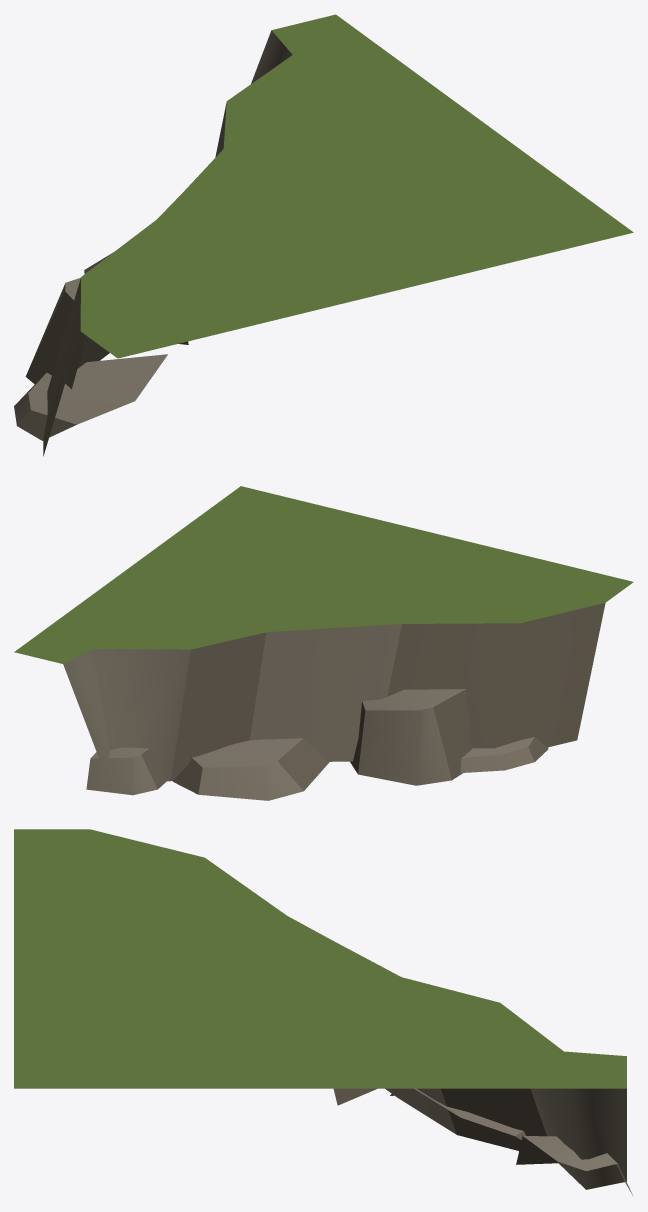
File: SF_Env_CliffEdge_Corner_05.fbx
The picture shows the model from 3 angles, top to bottom: view 1: azimuth 30°, elevation 25°; view 2: azimuth 150°, elevation 25°; view 3: azimuth 270°, elevation 25°; orthographic projection. The views are drawn at different scales.
Visible parts, largest first — view 1: SF_Env_CliffEdge_Corner_05; view 2: SF_Env_CliffEdge_Corner_05; view 3: SF_Env_CliffEdge_Corner_05.
Boxes of the visible parts, bbox=[...] form: SF_Env_CliffEdge_Corner_05: bbox=[14, 14, 633, 456]; SF_Env_CliffEdge_Corner_05: bbox=[14, 486, 633, 800]; SF_Env_CliffEdge_Corner_05: bbox=[14, 829, 632, 1195].
Size of the model in its own units: 20 by 5.82 by 20.23.
